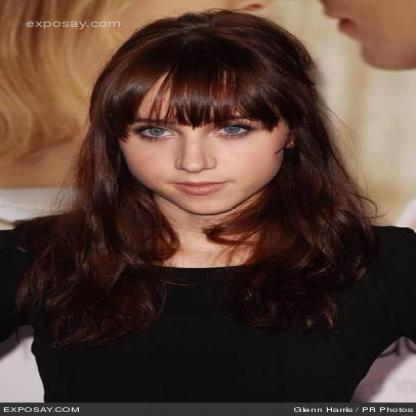long-hair: (68, 214, 364, 251)
